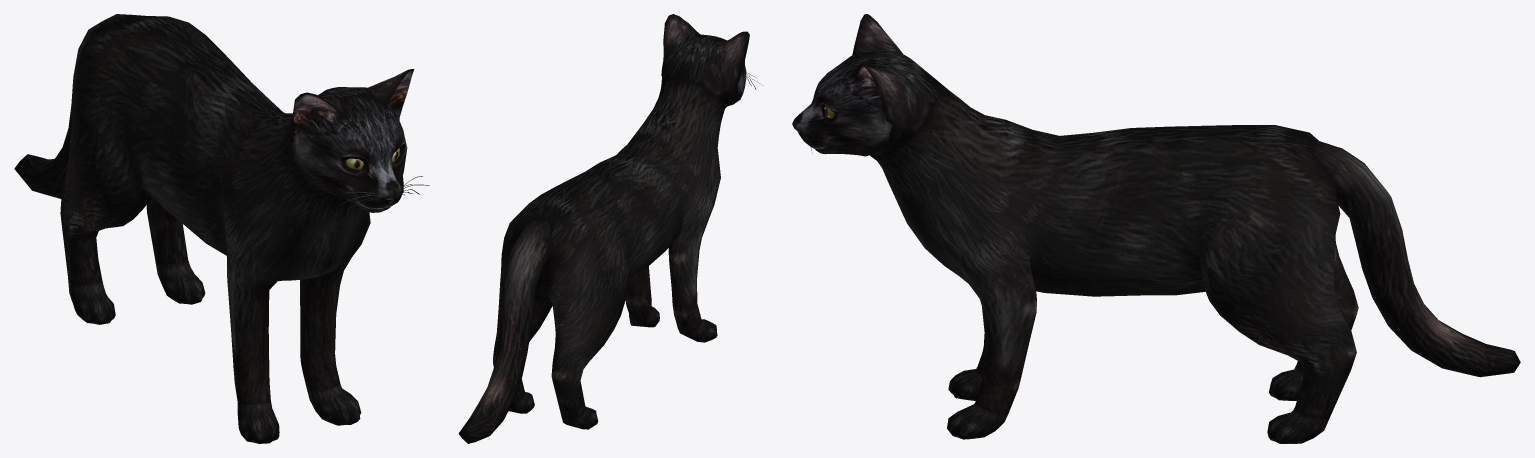
Rendered from Cat.dae.
The picture shows the model from 3 angles, left to right: view 1: azimuth 30°, elevation 25°; view 2: azimuth 150°, elevation 25°; view 3: azimuth 270°, elevation 25°; orthographic projection. The views are drawn at different scales.
Parts seen in each view (by area): view 1: DrawCall_0126, DrawCall_0124; view 2: DrawCall_0126, DrawCall_0124; view 3: DrawCall_0126, DrawCall_0124.
Boxes of the visible parts, x1,y1,x2,y2 form: DrawCall_0126: (14,14,370,443); DrawCall_0124: (289,69,414,212); DrawCall_0126: (458,77,725,443); DrawCall_0124: (661,14,749,107); DrawCall_0126: (872,83,1520,443); DrawCall_0124: (792,14,940,156).
Size of the model in its own units: 1.78 by 4.66 by 8.16.
2 materials, 2 textured.
